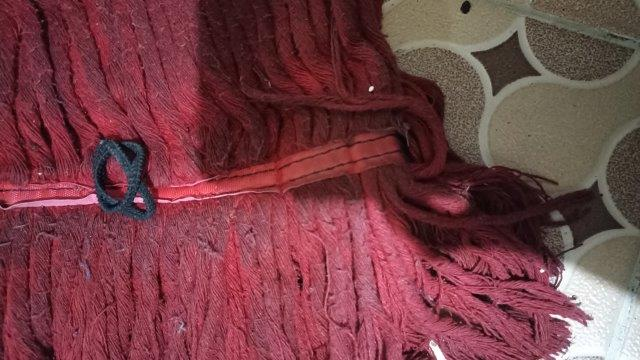karet: (91, 139, 156, 221)
